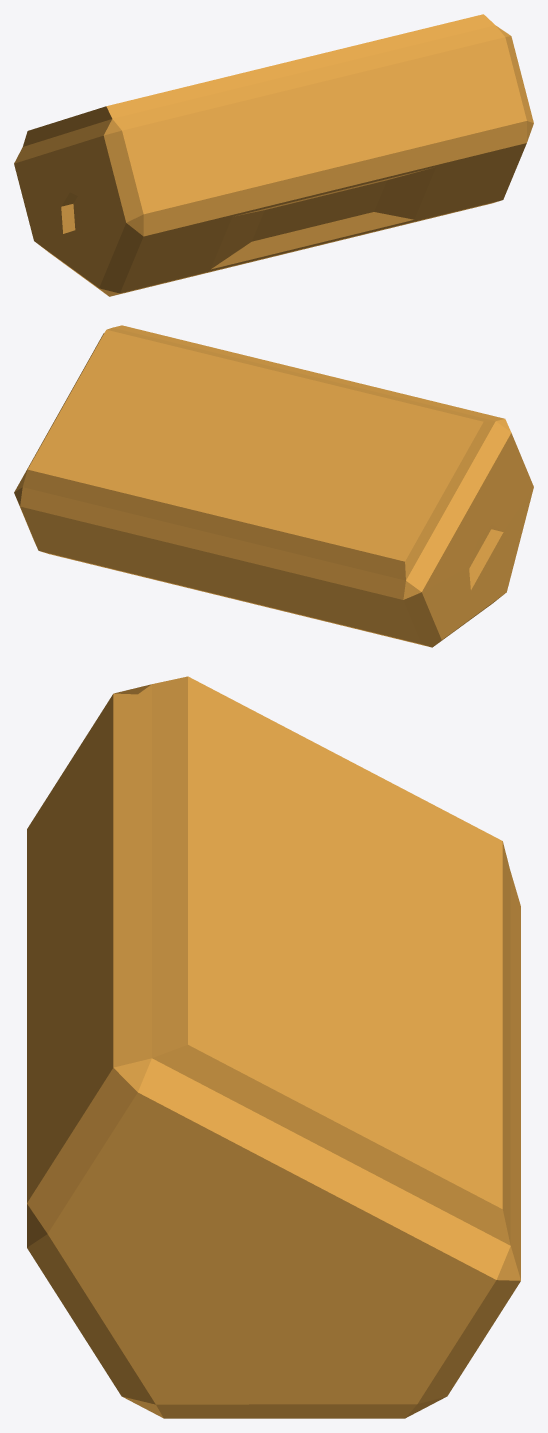
Rendered from speaker-reprobox.fbx.
The picture shows the model from 3 angles, top to bottom: view 1: azimuth 30°, elevation 25°; view 2: azimuth 150°, elevation 25°; view 3: azimuth 270°, elevation 25°; orthographic projection. The views are drawn at different scales.
Visible parts, largest first — view 1: speaker-reprobox; view 2: speaker-reprobox; view 3: speaker-reprobox.
Boxes of the visible parts, x1,y1,x2,y2 form: speaker-reprobox: (14,14,533,296); speaker-reprobox: (14,325,533,647); speaker-reprobox: (27,676,520,1418).
Bounding box in the file's own units: 1 × 0.4346 × 0.5248.
